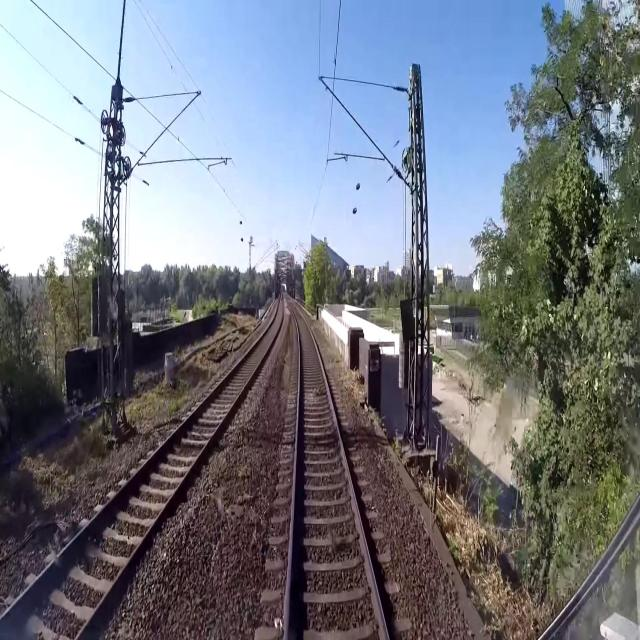rail-track: (0, 298, 281, 639), (288, 305, 384, 639)
